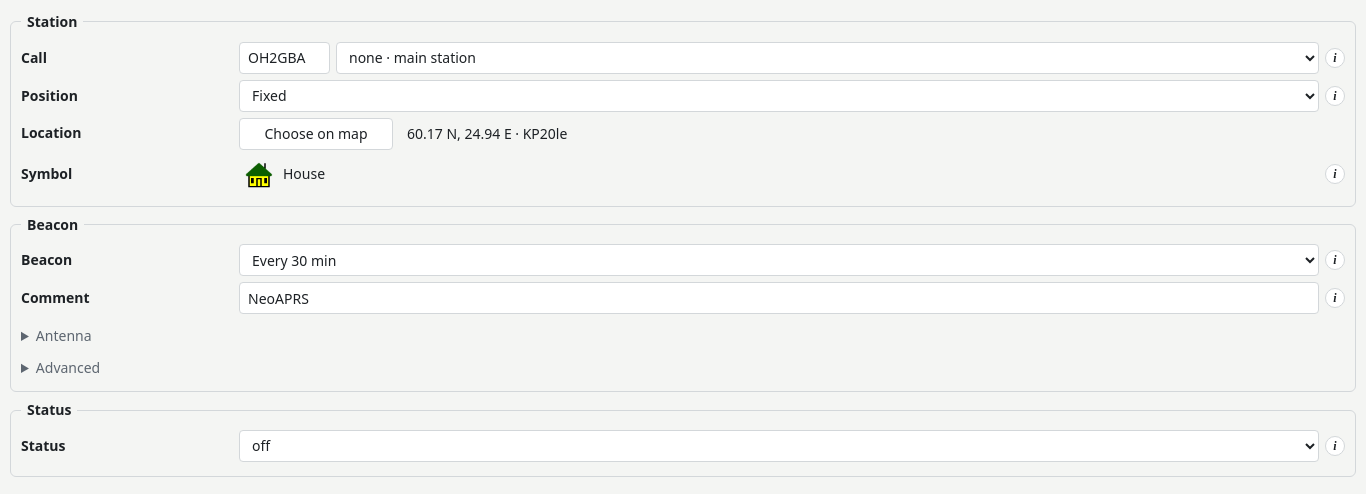
Test: the call field of the My station tab › has one (i) for the row, with the SSID said in it and the picture of the SSID
The width and height of the screenshot is (1366, 494).
Click the button with class "info-toggle" in the row of "Call" at {"x": 1335, "y": 58}, box [1325,48,1345,68]
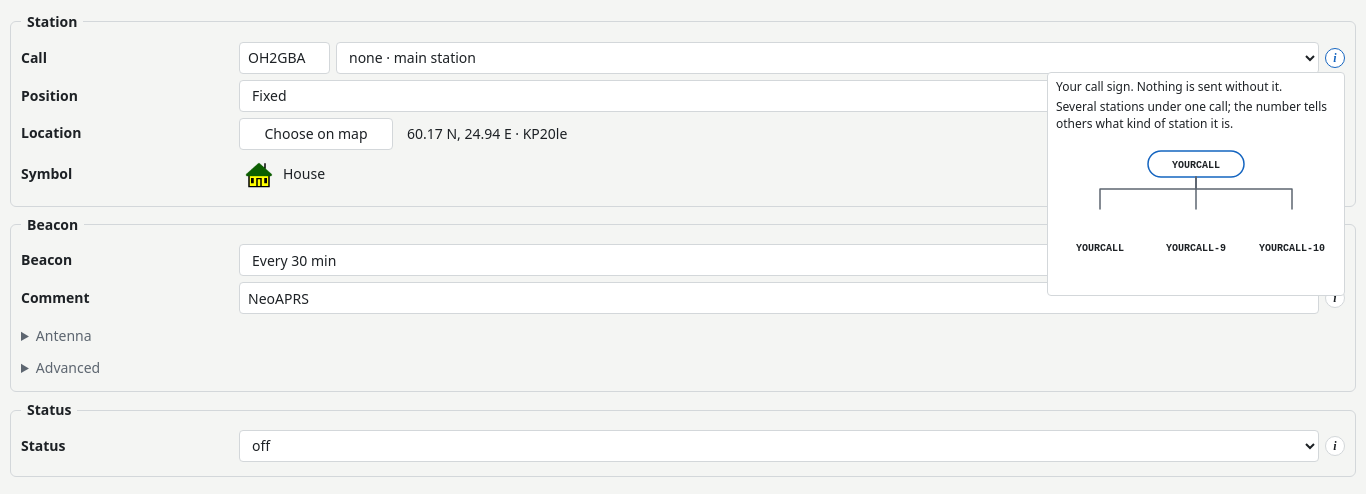
Now the element with class "info-text" shows "Several stations under one call; the number tells others what kind of station it is.", box [1056,98,1327,132]
